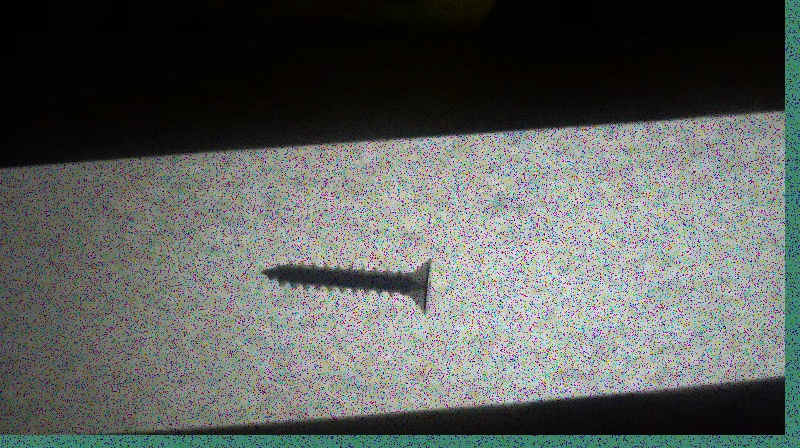S001: (256, 250, 434, 312)
